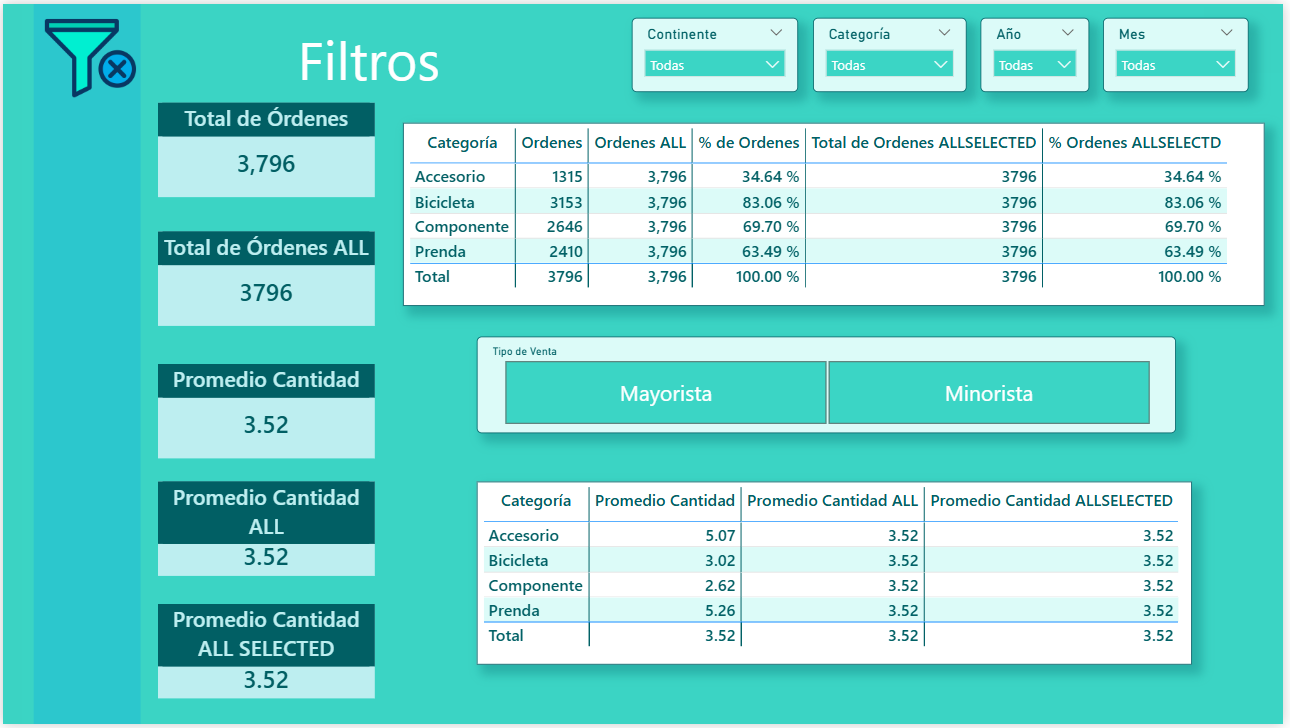

What the dashboard file says about the page in this screenshot:
{"tool":"powerbi","page":{"name":"Filtros ALL, ALLSELECTED","canvas":[1280,720],"ordinal":4},"visuals":[{"type":"slicer","fields":{"Values":["DimSalesTerritory.SalesTerritoryGroup"]},"box":[628.8,14.3,166.3,74.1],"z":0},{"type":"slicer","fields":{"Values":["DimProductCategory.SpanishProductCategoryName"]},"box":[809.4,14.3,153.3,74.1],"z":1000},{"type":"slicer","fields":{"Values":["DimCalendario.Año"]},"box":[977,14.3,109.1,74.1],"z":2000},{"type":"slicer","fields":{"Values":["DimCalendario.Mes"]},"box":[1100.5,14.3,145.5,74.1],"z":3000},{"type":"card","title":"Total de Órdenes","fields":{"Values":["Medidas.Total de Ordenes"]},"box":[155.5,98.5,216.5,94.4],"z":4000},{"type":"card","title":"Total de Órdenes ALL","fields":{"Values":["Medidas.Total de Ordenes"]},"box":[155.5,227.6,216.5,94.4],"z":5000},{"type":"tableEx","fields":{"Values":["DimProductCategory.SpanishProductCategoryName","Medidas.Total de Ordenes","Medidas.Total de Ordenes ALL","Medidas.% de Ordenes","Medidas.Total de Ordenes ALLSELECTED","Medidas.% Ordenes ALLSELECTD"]},"box":[399.7,119.4,862,183.2],"z":6000},{"type":"tableEx","fields":{"Values":["DimProductCategory.SpanishProductCategoryName","Medidas.Promedio Cantidad","Medidas.Promedio Cantidad ALL","Medidas.Promedio Cantidad ALLSELECTED"]},"box":[473.3,477.5,714.8,183.2],"z":7000},{"type":"image","box":[36.1,4.2,102.7,101.3],"z":8000},{"type":"card","title":"Promedio Cantidad","fields":{"Values":["Medidas.Promedio Cantidad"]},"box":[155.5,359.5,216.5,94.4],"z":9000},{"type":"card","title":"Promedio Cantidad ALL","fields":{"Values":["Medidas.Promedio Cantidad ALL"]},"box":[155.5,477.5,216.5,94.4],"z":10000},{"type":"card","title":"Promedio Cantidad ALL SELECTED","fields":{"Values":["Medidas.Promedio Cantidad ALLSELECTED"]},"box":[155.5,599.6,216.5,94.4],"z":11000},{"type":"slicer","fields":{"Values":["FactResellerSales.Tipo de Venta"]},"box":[473.3,333.1,699.6,97.2],"z":12000},{"type":"textbox","box":[155.5,13.9,422,84.7],"z":13000}]}

Visuals, with their boxes in screenshot pixels (x1, y1, x2, y2), scaled from the page's 1280x720 canvas onto the 1290x728 screenshot:
slicer - DimSalesTerritory.SalesTerritoryGroup: {"left": 634, "top": 14, "right": 801, "bottom": 89}
slicer - DimProductCategory.SpanishProductCategoryName: {"left": 816, "top": 14, "right": 970, "bottom": 89}
slicer - DimCalendario.Año: {"left": 985, "top": 14, "right": 1095, "bottom": 89}
slicer - DimCalendario.Mes: {"left": 1109, "top": 14, "right": 1256, "bottom": 89}
"Total de Órdenes" card: {"left": 157, "top": 100, "right": 375, "bottom": 195}
"Total de Órdenes ALL" card: {"left": 157, "top": 230, "right": 375, "bottom": 326}
tableEx - DimProductCategory.SpanishProductCategoryName x Medidas.Total de Ordenes: {"left": 403, "top": 121, "right": 1272, "bottom": 306}
tableEx - DimProductCategory.SpanishProductCategoryName x Medidas.Promedio Cantidad: {"left": 477, "top": 483, "right": 1197, "bottom": 668}
image: {"left": 36, "top": 4, "right": 140, "bottom": 107}
"Promedio Cantidad" card: {"left": 157, "top": 363, "right": 375, "bottom": 459}
"Promedio Cantidad ALL" card: {"left": 157, "top": 483, "right": 375, "bottom": 578}
"Promedio Cantidad ALL SELECTED" card: {"left": 157, "top": 606, "right": 375, "bottom": 702}
slicer - FactResellerSales.Tipo de Venta: {"left": 477, "top": 337, "right": 1182, "bottom": 435}
textbox: {"left": 157, "top": 14, "right": 582, "bottom": 100}
